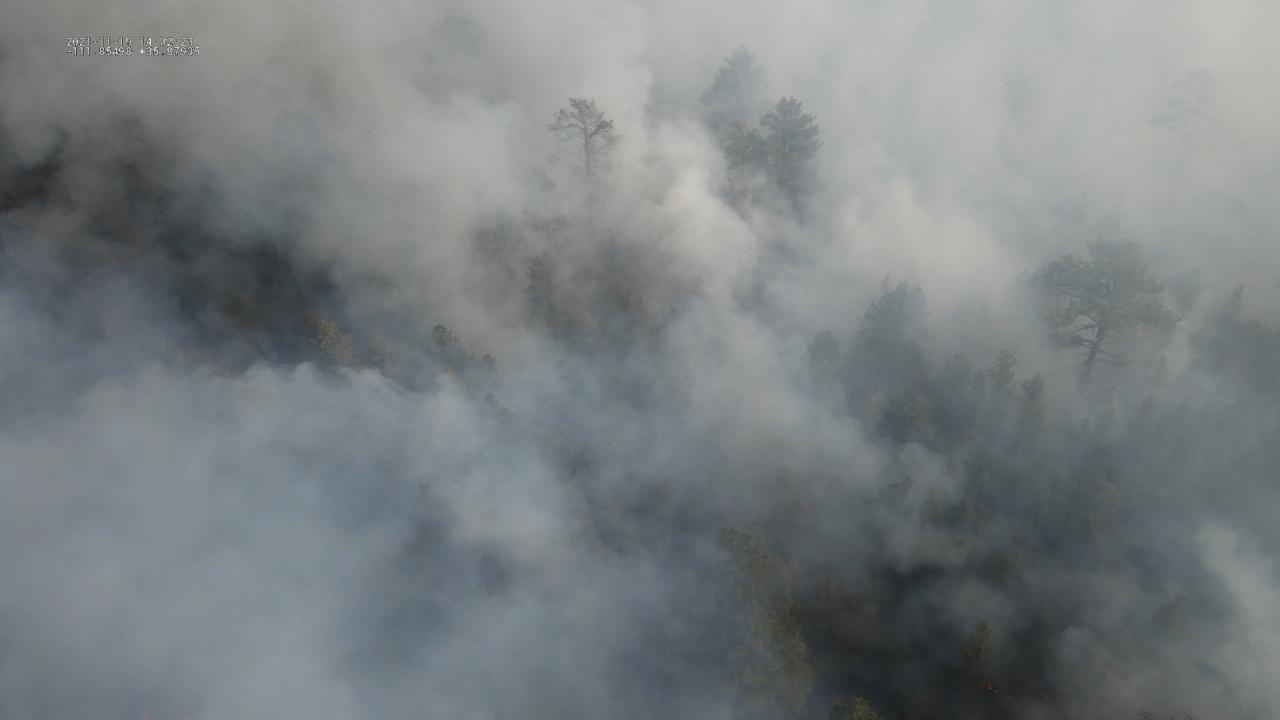fire: (979, 681, 994, 691)
smoke: (0, 0, 1280, 720)
